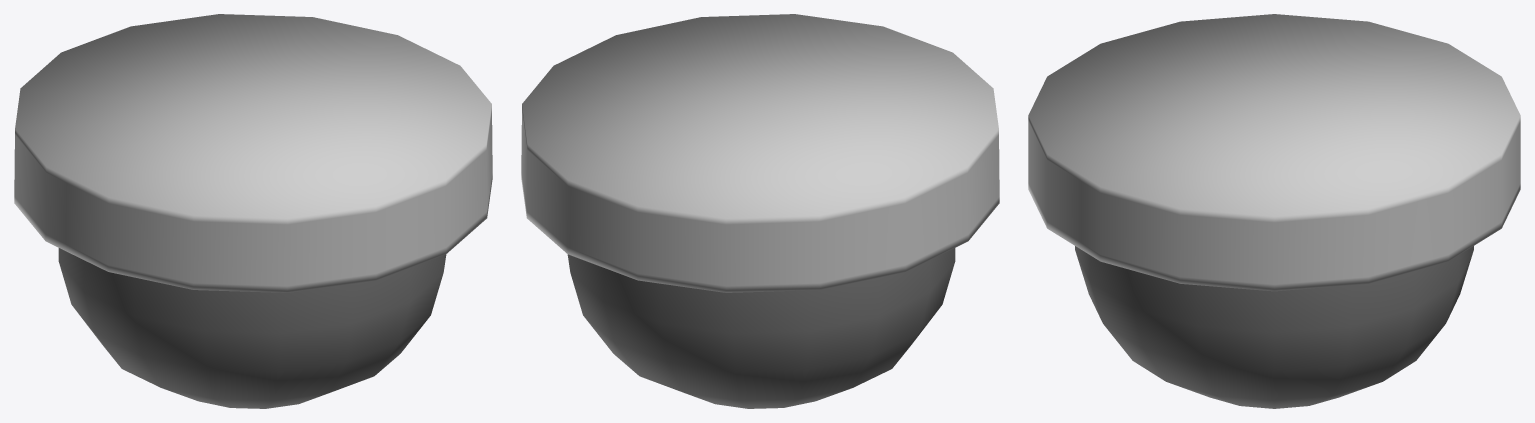
Rendered from leg.glb.
3 renders of one model, left to right at view 1: azimuth 30°, elevation 25°; view 2: azimuth 150°, elevation 25°; view 3: azimuth 270°, elevation 25°, orthographic.
Parts seen in each view (by area): view 1: geo_body_bot_1.001; view 2: geo_body_bot_1.001; view 3: geo_body_bot_1.001.
Part boxes in pixels (left/top/right/bottom): geo_body_bot_1.001: left=14, top=14, right=492, bottom=408; geo_body_bot_1.001: left=521, top=14, right=999, bottom=408; geo_body_bot_1.001: left=1028, top=14, right=1520, bottom=408.
Bounding box in the file's own units: 0.126 × 0.0765 × 0.1289.
1 material, 1 textured.
